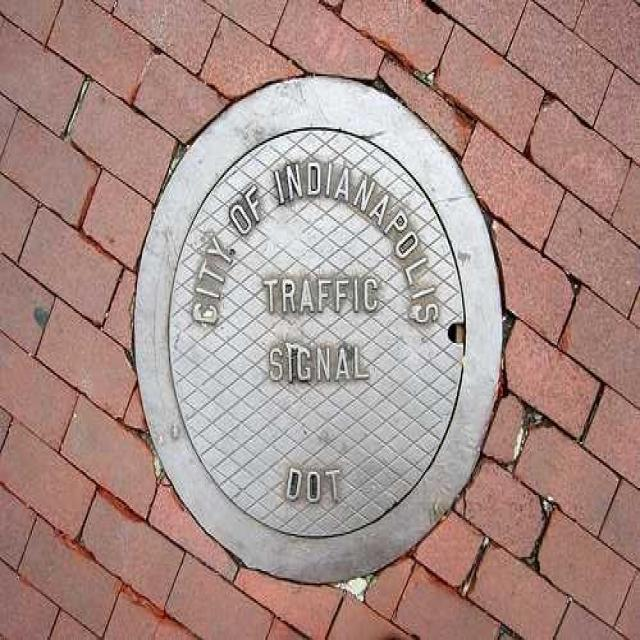manhole: (135, 78, 501, 582)
